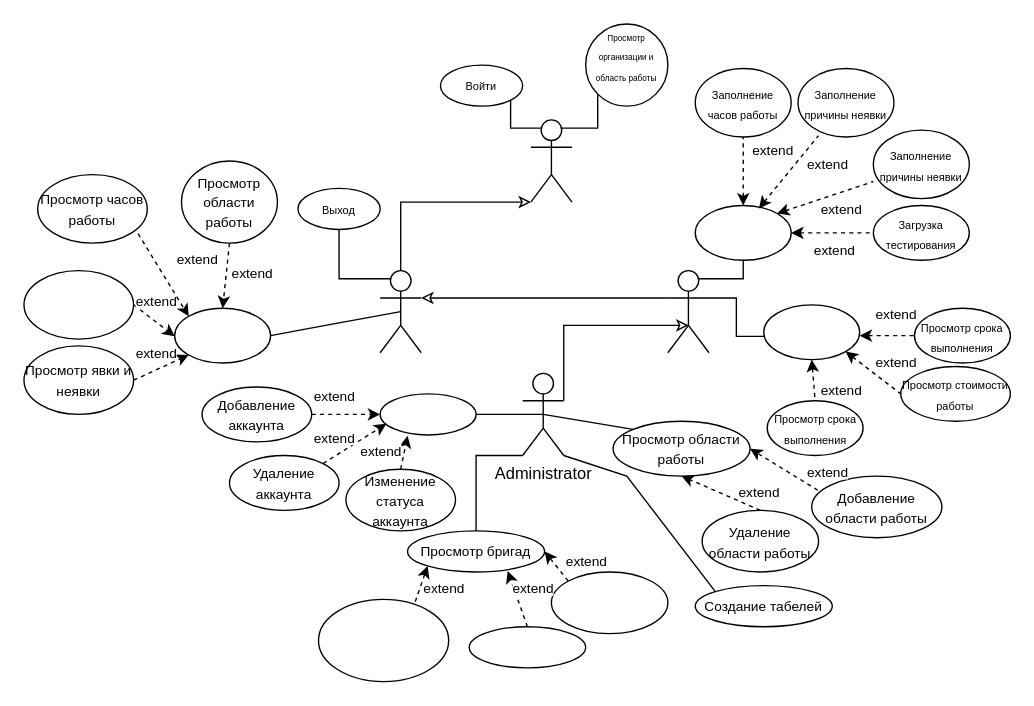
The diagram is 1034 pixels wide and 706 high, and some of its shapes have lost their labels. The shapes that lost their labels are listed below. From the top down, each one's box as (x1, y1, x2, y2) in pixels, then its label:
(530, 119, 572, 202): User
(694, 204, 791, 260): Заполнение табеля
(23, 269, 134, 339): Просмотр учащихся бригады
(379, 269, 421, 353): Worker
(667, 269, 709, 353): Chief
(173, 307, 271, 363): Просмотр табеля
(762, 303, 860, 360): Выбор области работы
(379, 393, 476, 435): Просмотр аккаунтов
(550, 571, 668, 634): Удаление бригады
(317, 598, 449, 682): Редактирование бригады (формирование)
(468, 625, 586, 668): Создание бригады
